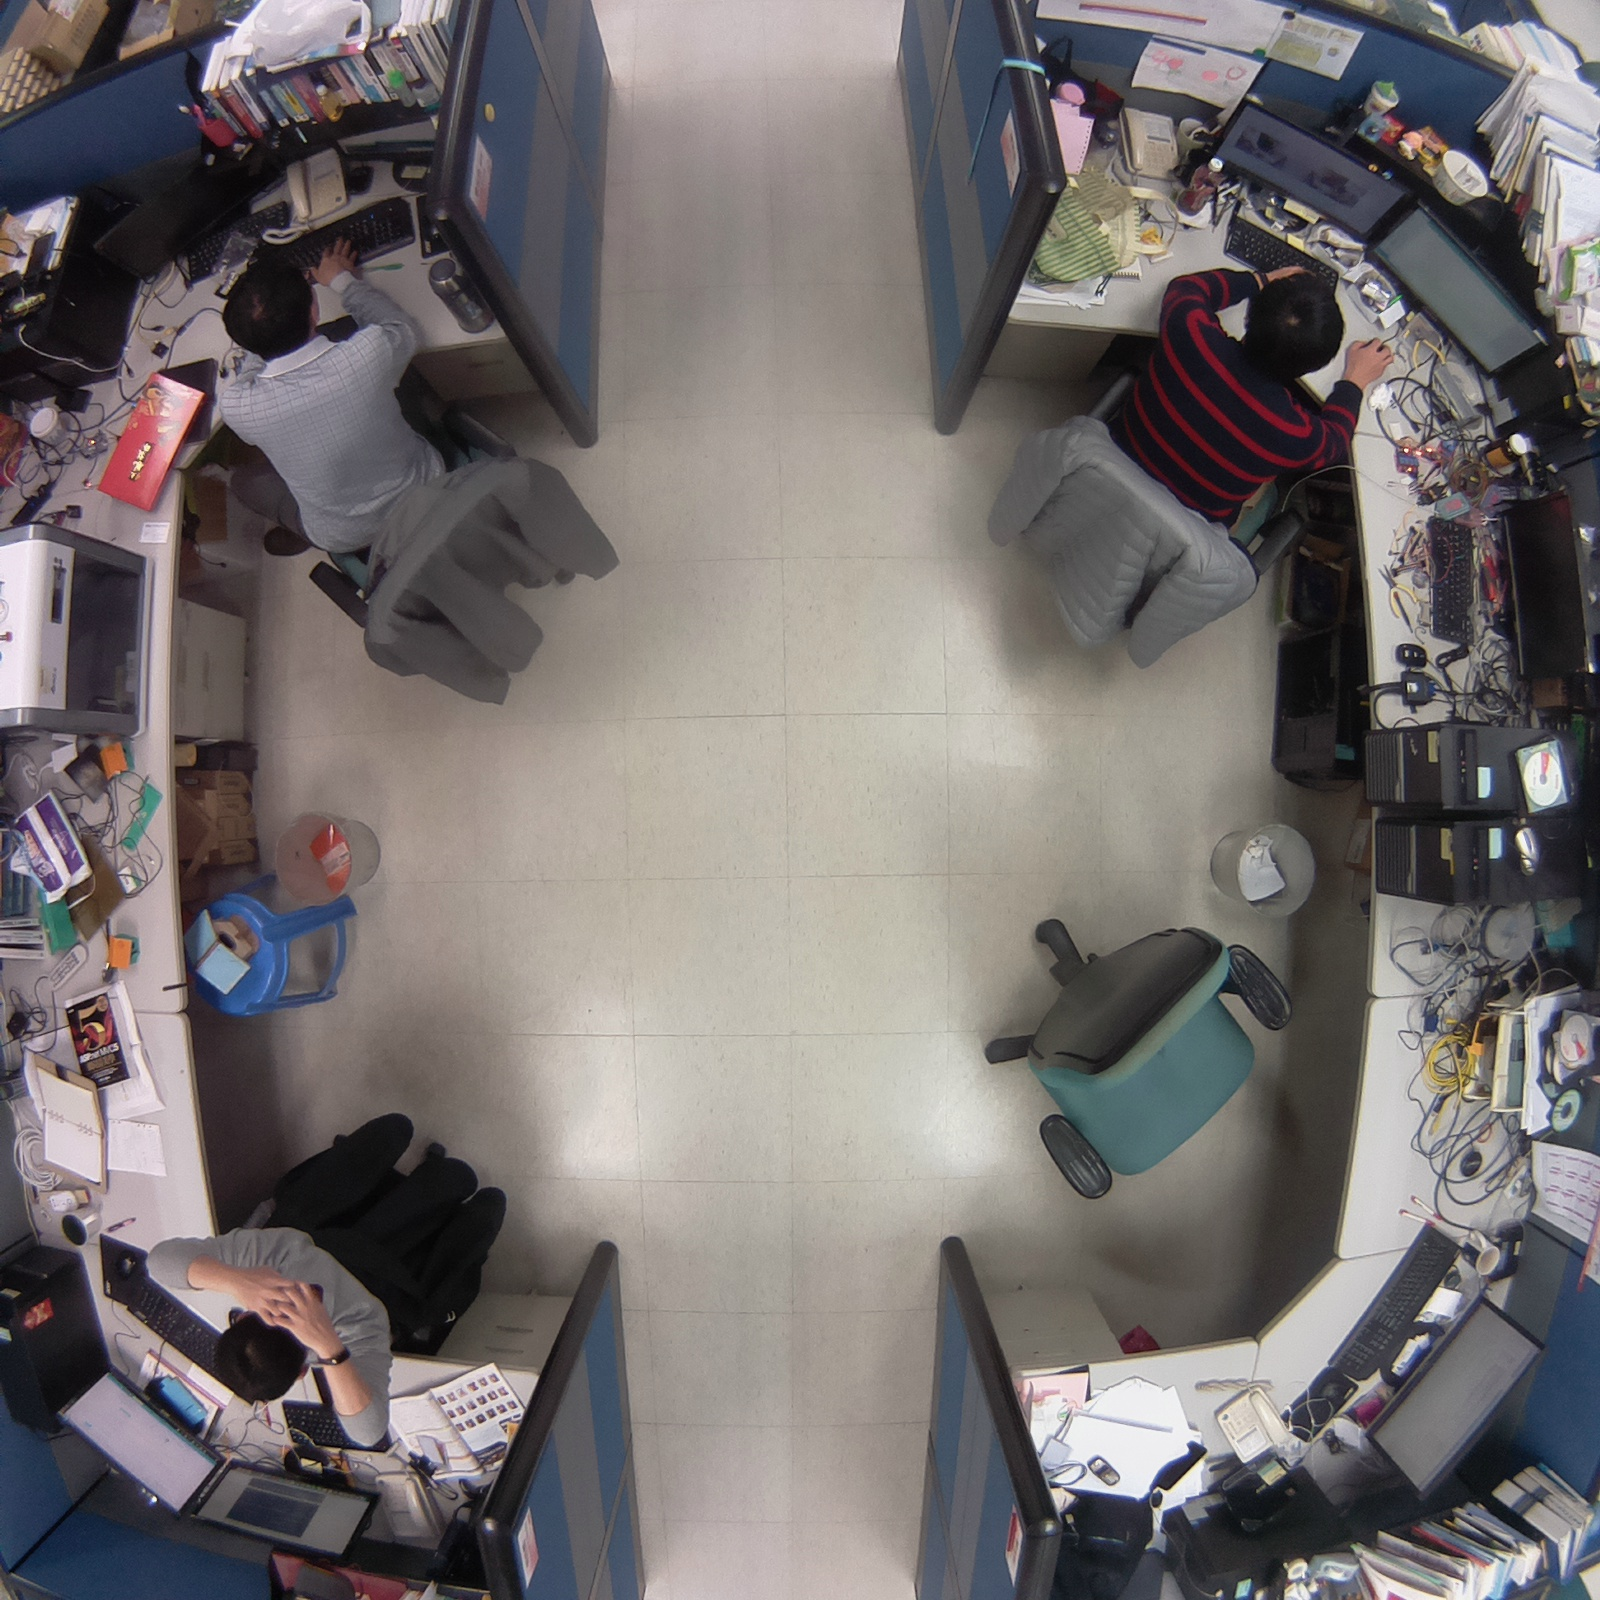chair: (954, 895, 1310, 1222)
sitting: (190, 220, 634, 722), (970, 229, 1407, 681), (132, 1084, 533, 1475)
